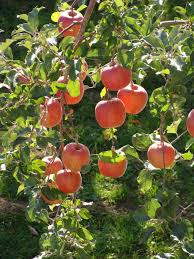apple: (117, 83, 151, 117), (99, 60, 132, 90), (96, 99, 127, 128), (35, 101, 63, 130), (97, 152, 127, 179), (55, 77, 85, 104), (149, 141, 176, 170), (63, 143, 91, 170), (54, 169, 82, 194), (55, 11, 83, 36), (39, 156, 62, 176)
